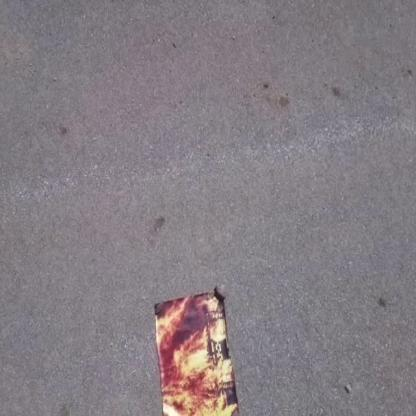fire-poster: (153, 284, 241, 415)
